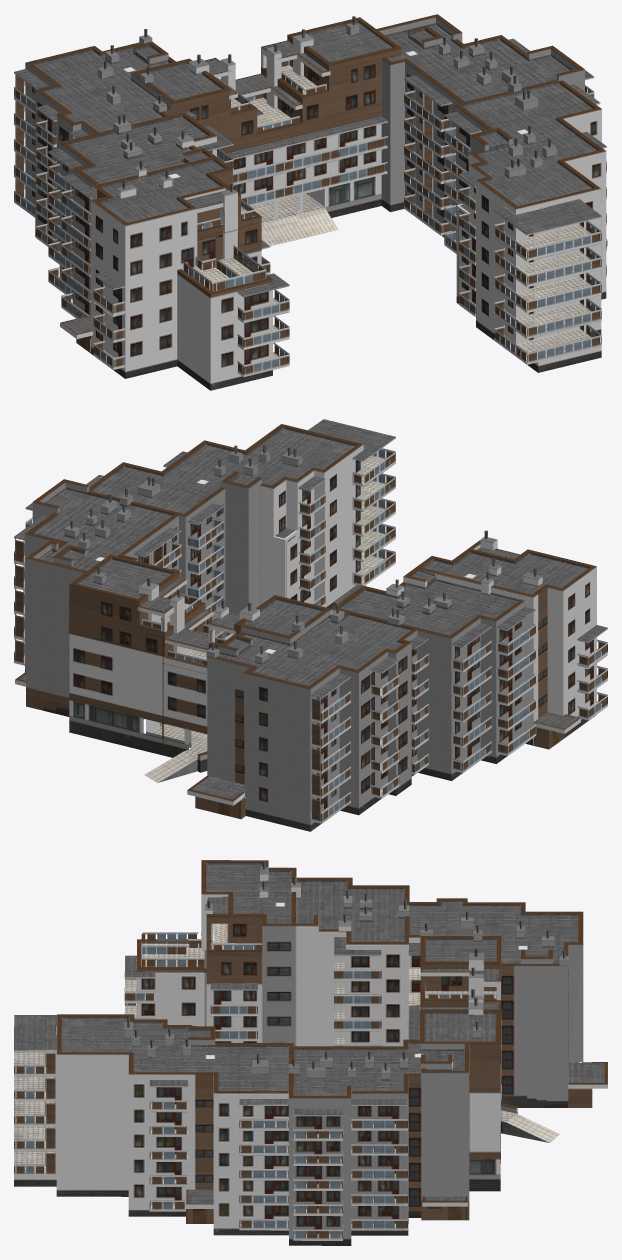
The model's file is example_m.glb.
3 renders of one model, top to bottom at view 1: azimuth 30°, elevation 25°; view 2: azimuth 150°, elevation 25°; view 3: azimuth 270°, elevation 25°, orthographic. The views are drawn at different scales.
Parts seen in each view (by area): view 1: Object_2; view 2: Object_2; view 3: Object_2.
Boxes of the visible parts, x1,y1,x2,y2 form: Object_2: [14, 14, 607, 390]; Object_2: [14, 419, 607, 831]; Object_2: [14, 860, 607, 1245].
Size of the model in its own units: 64.58 by 19.33 by 64.63.
1 material, 1 textured.
